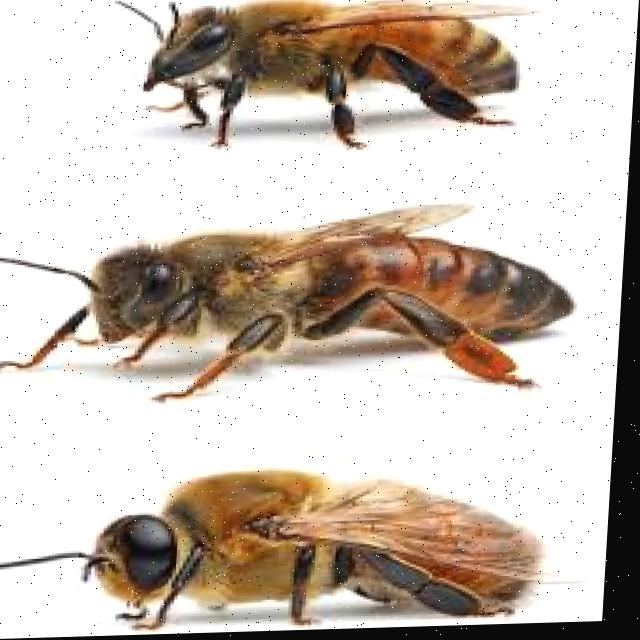Apis-mellifera-scutellata: (0, 204, 615, 417), (0, 460, 593, 634), (116, 0, 542, 159)
